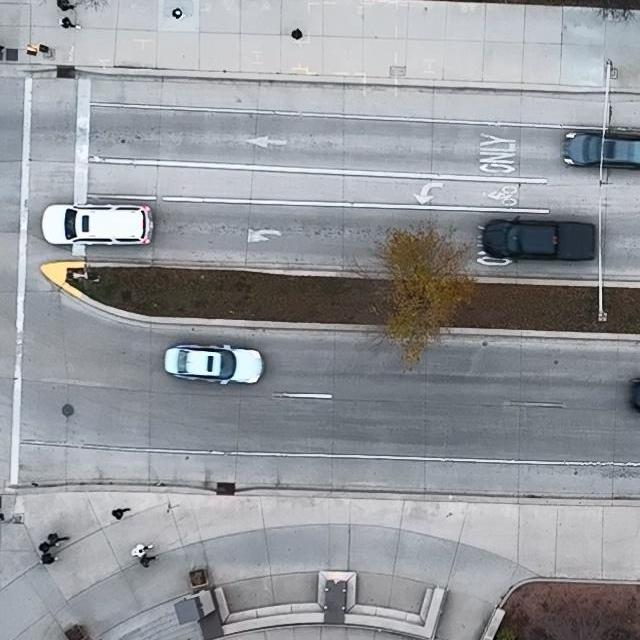car: (481, 214, 598, 265), (41, 203, 154, 246), (164, 343, 264, 387), (562, 132, 640, 170)
